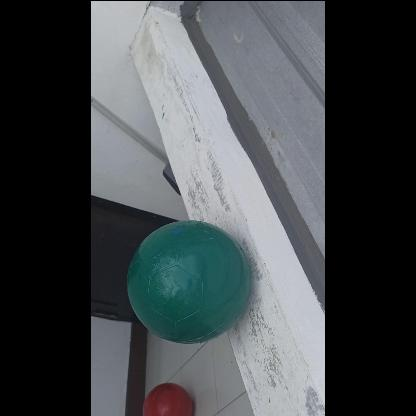green_ball: (124, 218, 250, 342)
